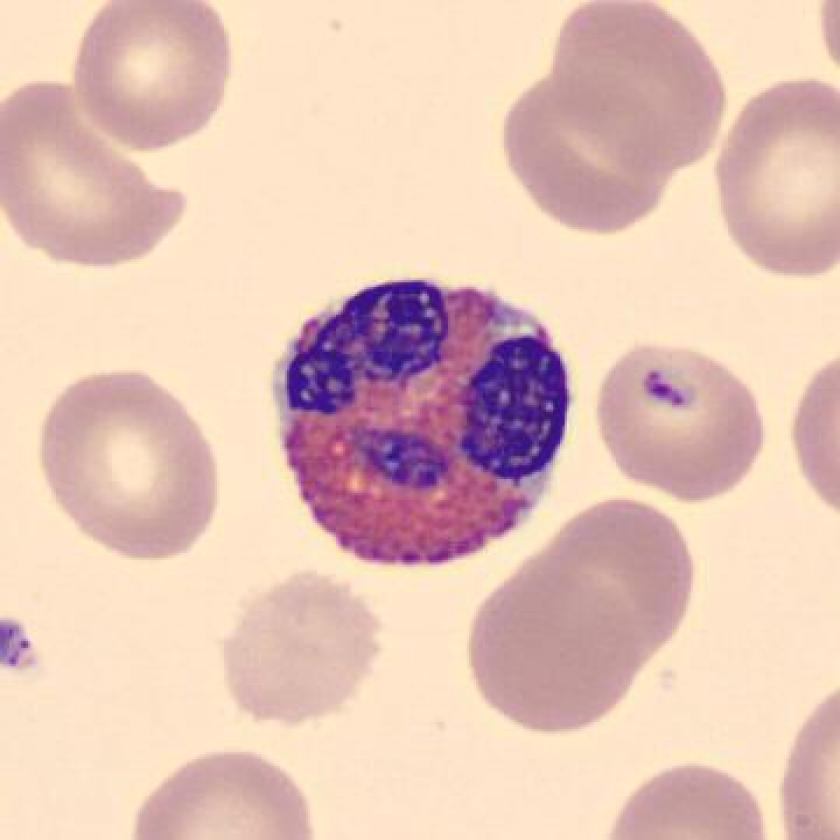eosinophil: (263, 263, 585, 580)
